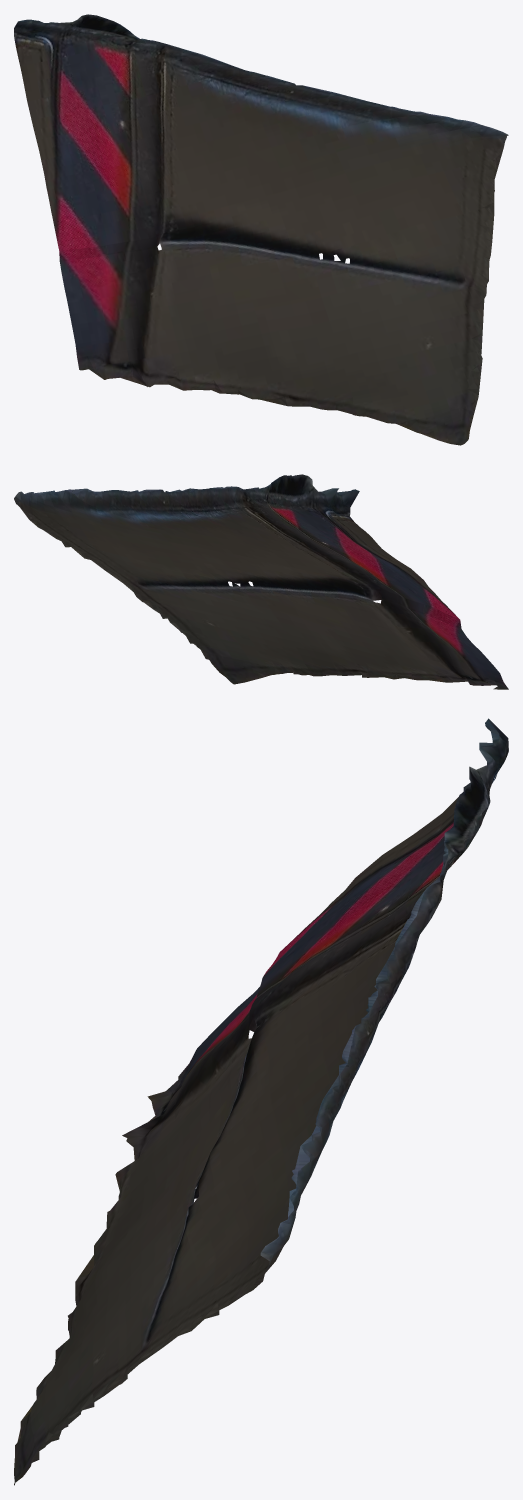
The model's file is observed-surface.glb.
3 renders of one model, top to bottom at view 1: azimuth 30°, elevation 25°; view 2: azimuth 150°, elevation 25°; view 3: azimuth 270°, elevation 25°, orthographic. The views are drawn at different scales.
Visible parts, largest first — view 1: geometry_0; view 2: geometry_0; view 3: geometry_0.
Part boxes in pixels (<box>): geometry_0: <box>14,14,508,445</box>; geometry_0: <box>14,474,508,689</box>; geometry_0: <box>14,718,508,1485</box>.
Size of the model in its own units: 0.64 by 0.5027 by 0.4023.
1 material, 1 textured.
